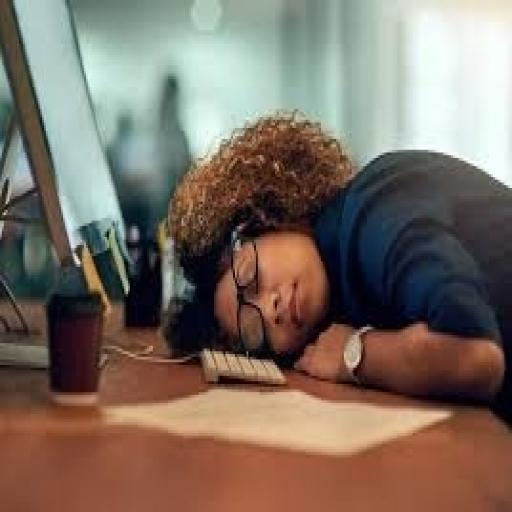sleeping: (161, 106, 510, 436)
